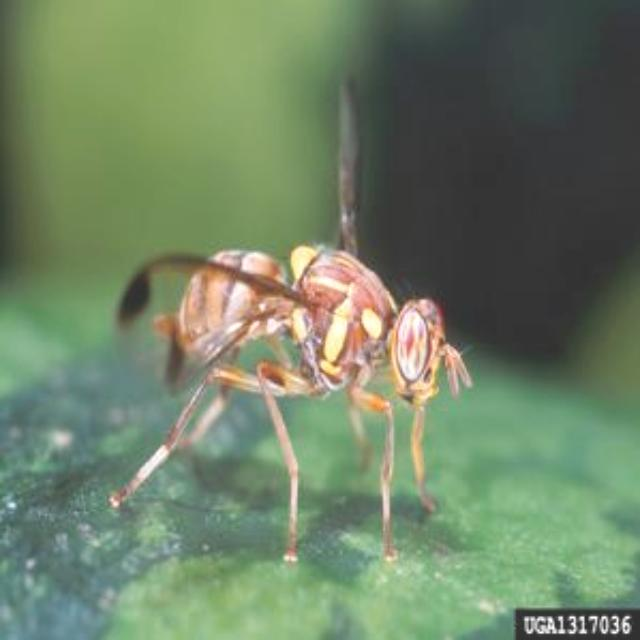melon fly: (59, 61, 470, 578)
